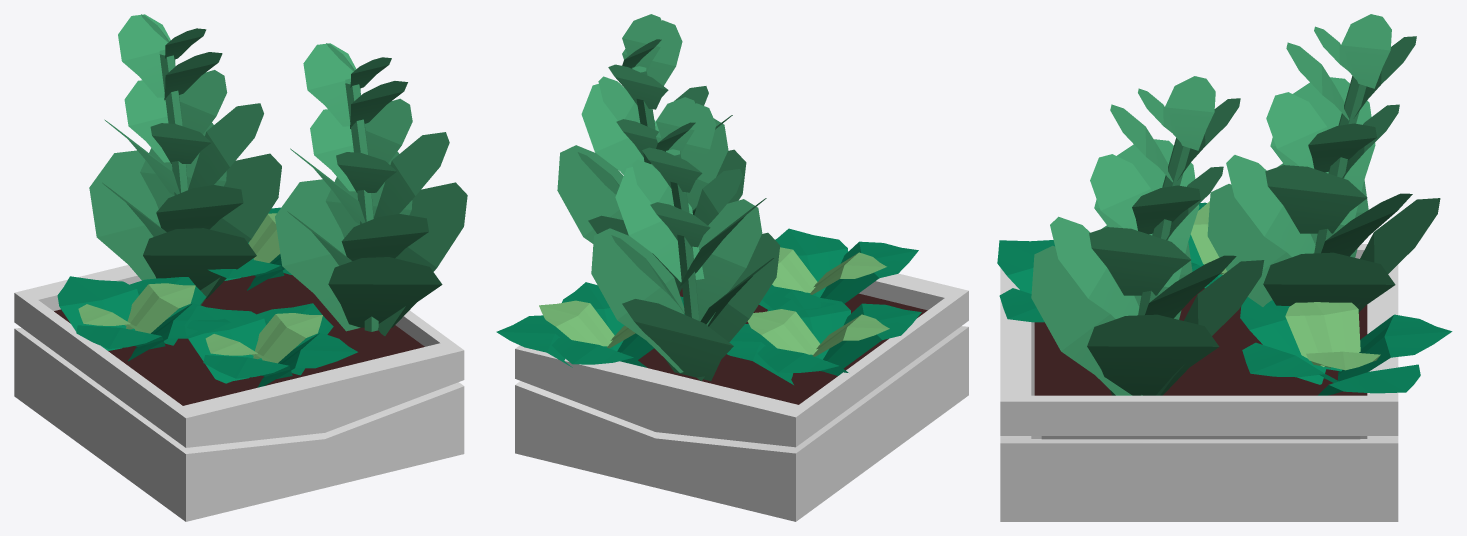
Rendered from Plant_farm_04.fbx.
The picture shows the model from 3 angles, left to right: view 1: azimuth 30°, elevation 25°; view 2: azimuth 150°, elevation 25°; view 3: azimuth 270°, elevation 25°; orthographic projection. The views are drawn at different scales.
Parts seen in each view (by area): view 1: polySurface2415, polySurface2414, polySurface2197, polySurface2196, polySurface2198, polySurface2404, polySurface2424, polySurface2405; view 2: polySurface2197, polySurface2414, polySurface2196, polySurface2415, polySurface2424, polySurface2404, polySurface2405, polySurface2198; view 3: polySurface2415, polySurface2414, polySurface2197, polySurface2196, polySurface2405, polySurface2198, polySurface2404, polySurface2424, polySurface2199.
Boxes of the visible parts, bbox=[...] form: polySurface2415: bbox=[275, 43, 467, 335]; polySurface2414: bbox=[89, 14, 281, 305]; polySurface2197: bbox=[14, 327, 464, 521]; polySurface2196: bbox=[14, 265, 464, 447]; polySurface2198: bbox=[54, 273, 424, 405]; polySurface2404: bbox=[184, 303, 357, 387]; polySurface2424: bbox=[57, 276, 230, 361]; polySurface2405: bbox=[208, 207, 291, 290]; polySurface2197: bbox=[515, 326, 968, 521]; polySurface2414: bbox=[591, 97, 780, 380]; polySurface2196: bbox=[515, 273, 968, 447]; polySurface2415: bbox=[557, 14, 746, 293]; polySurface2424: bbox=[727, 290, 921, 384]; polySurface2404: bbox=[759, 228, 918, 310]; polySurface2405: bbox=[496, 282, 684, 367]; polySurface2198: bbox=[638, 288, 927, 404]; polySurface2415: bbox=[1031, 76, 1264, 395]; polySurface2414: bbox=[1207, 14, 1440, 312]; polySurface2197: bbox=[1000, 322, 1398, 521]; polySurface2196: bbox=[1000, 244, 1398, 435]; polySurface2405: bbox=[1240, 297, 1452, 395]; polySurface2198: bbox=[1034, 288, 1367, 395]; polySurface2404: bbox=[997, 240, 1054, 322]; polySurface2424: bbox=[1188, 201, 1226, 288]; polySurface2199: bbox=[1041, 436, 1360, 439].
Bounding box in the file's own units: 1.98 × 1.89 × 1.88.
